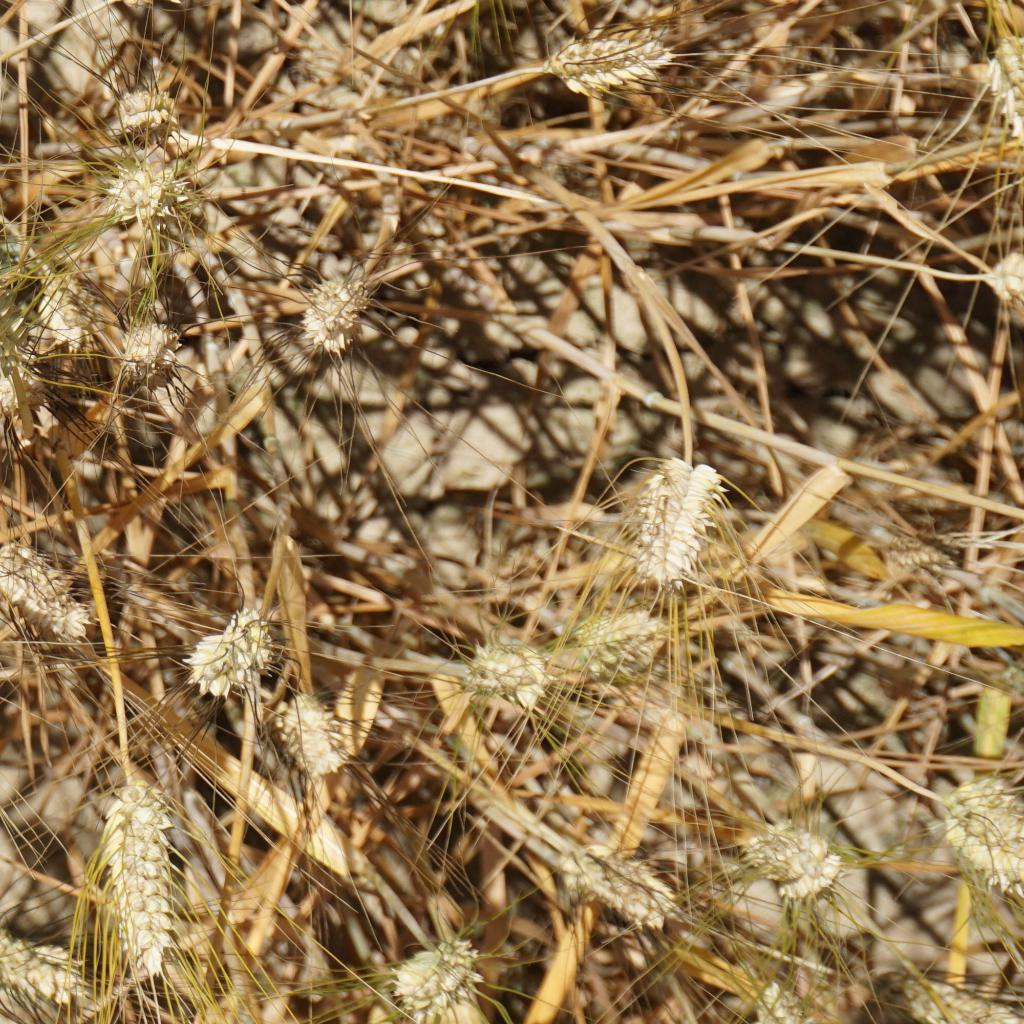0-0: (80, 772, 190, 965), (525, 17, 702, 108), (620, 444, 732, 581), (748, 799, 840, 905), (561, 842, 669, 931), (90, 163, 202, 248), (0, 525, 88, 633), (943, 765, 1024, 879), (569, 598, 679, 675), (372, 933, 484, 1008), (458, 624, 561, 705), (0, 909, 72, 1012), (275, 687, 352, 781), (98, 69, 188, 147), (888, 963, 1003, 1024), (25, 263, 108, 344), (301, 277, 372, 370), (175, 606, 249, 691), (108, 305, 185, 386), (985, 30, 1024, 136)
